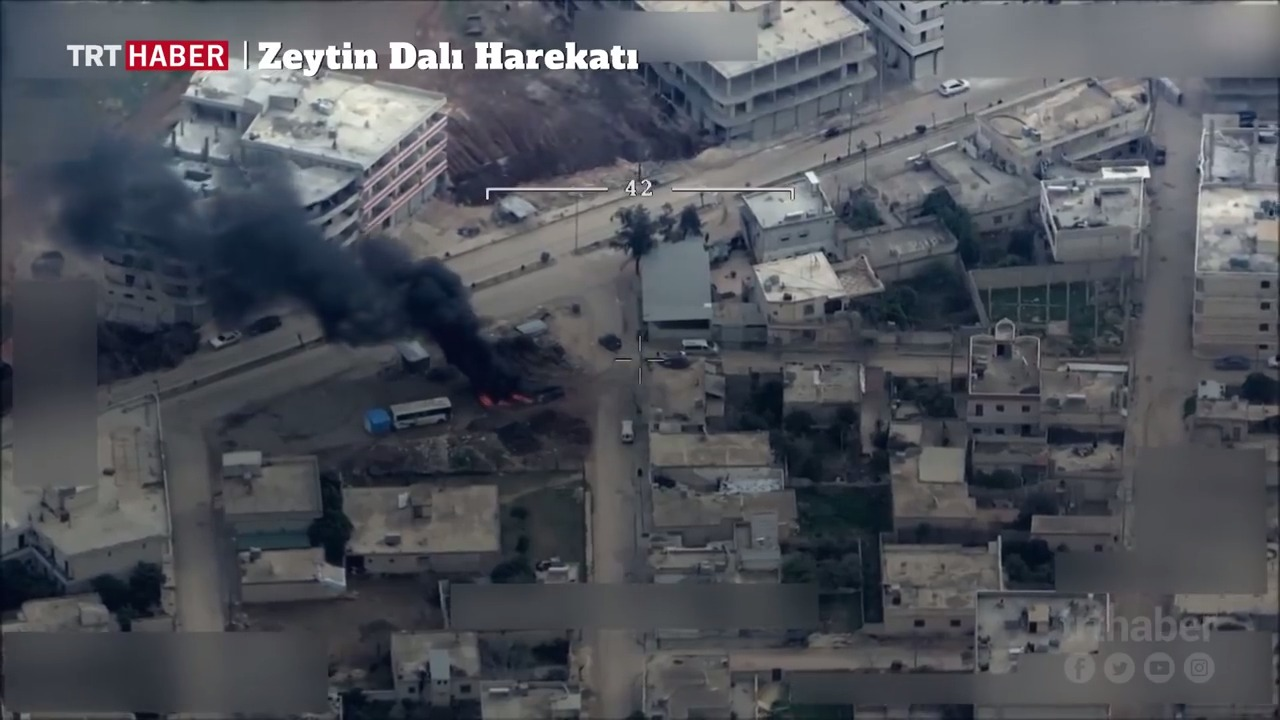arac: (392, 383, 467, 439), (658, 348, 699, 382), (1209, 349, 1257, 377), (589, 321, 630, 352), (210, 319, 246, 346), (940, 66, 972, 96), (674, 335, 717, 357), (607, 415, 643, 441), (251, 314, 287, 340), (1149, 136, 1173, 169), (1265, 346, 1280, 370)
